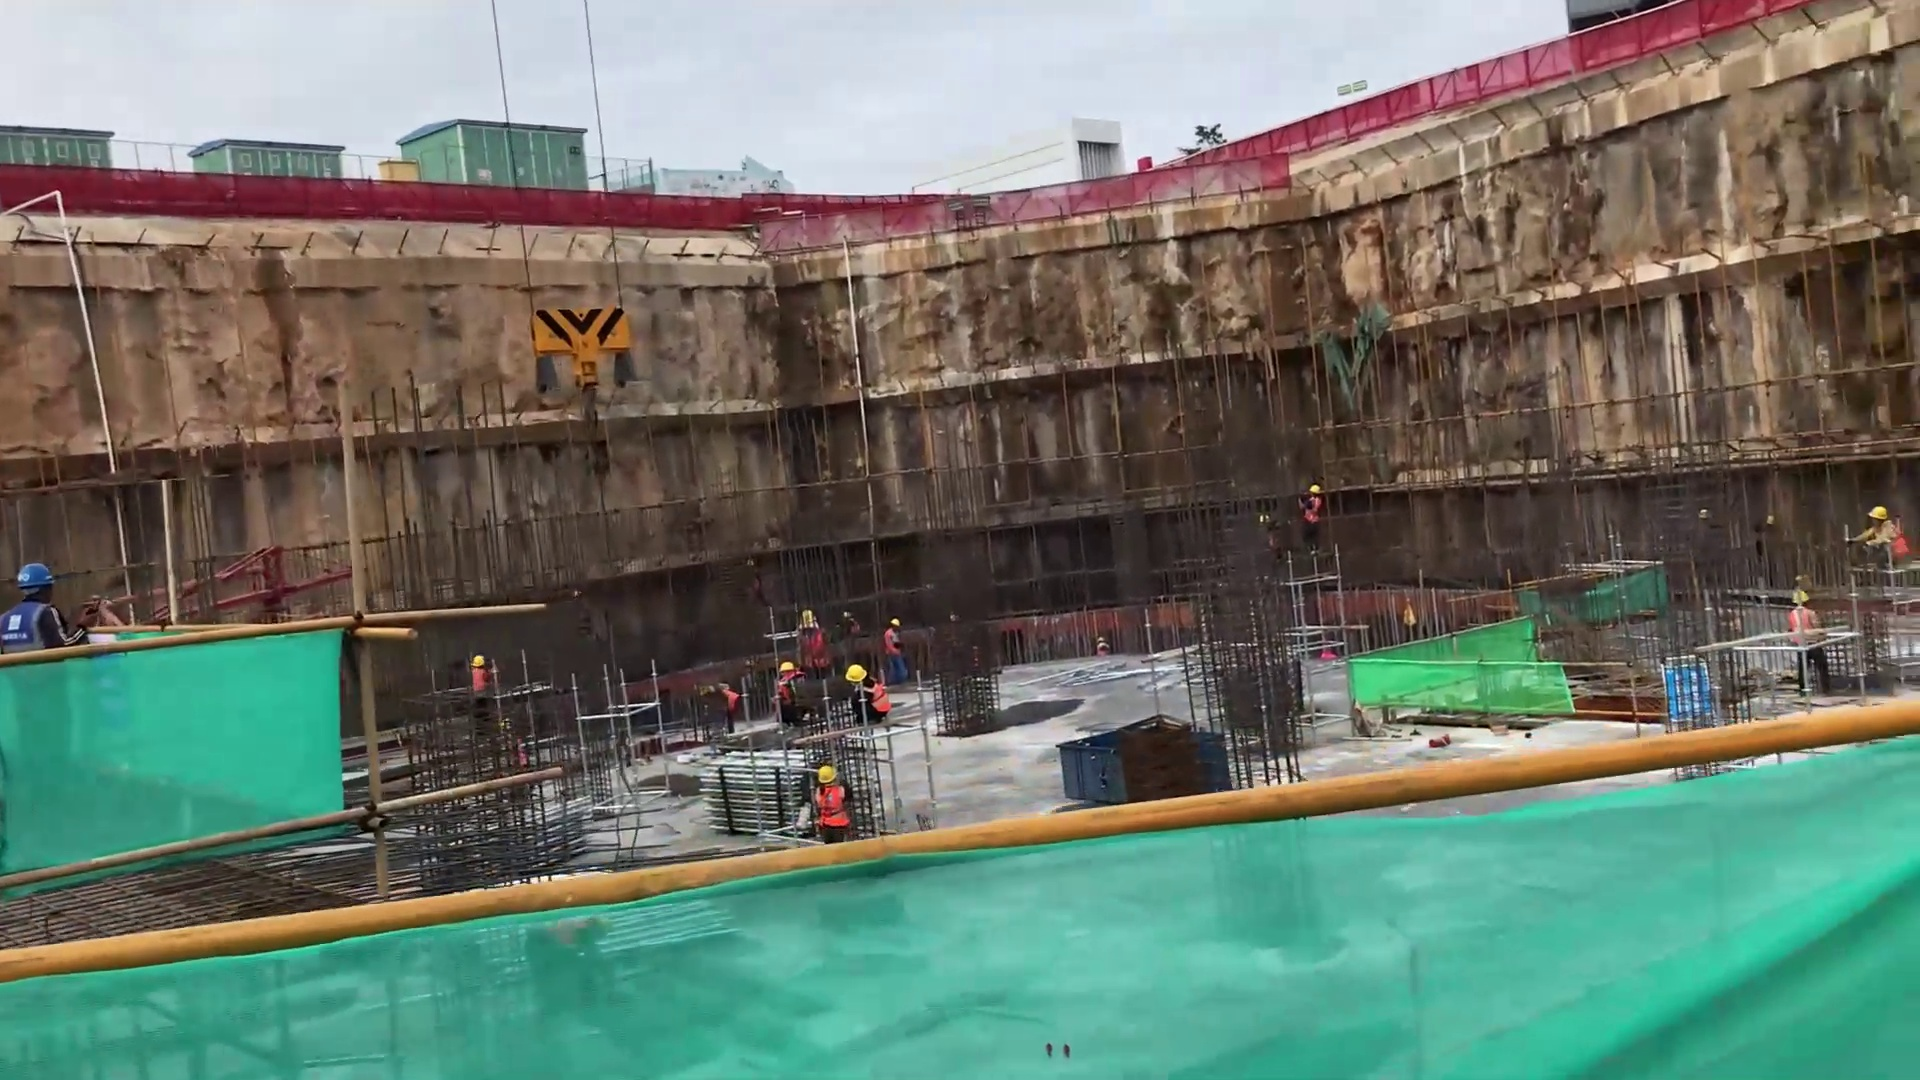helmet: (15, 562, 57, 591), (846, 665, 869, 684), (818, 765, 838, 784), (1868, 504, 1888, 519), (470, 655, 488, 670), (778, 661, 796, 673), (1309, 485, 1320, 494), (890, 618, 901, 627)
person: (4, 561, 97, 650), (1784, 586, 1822, 710), (1845, 505, 1910, 568), (808, 765, 857, 843), (846, 665, 898, 734), (797, 608, 837, 675), (705, 681, 748, 738), (769, 655, 803, 726), (882, 616, 916, 686), (1297, 480, 1326, 544), (464, 654, 500, 694)
vest: (1, 602, 57, 661), (816, 782, 852, 834), (867, 680, 894, 719), (885, 630, 906, 660), (1306, 496, 1320, 525)
